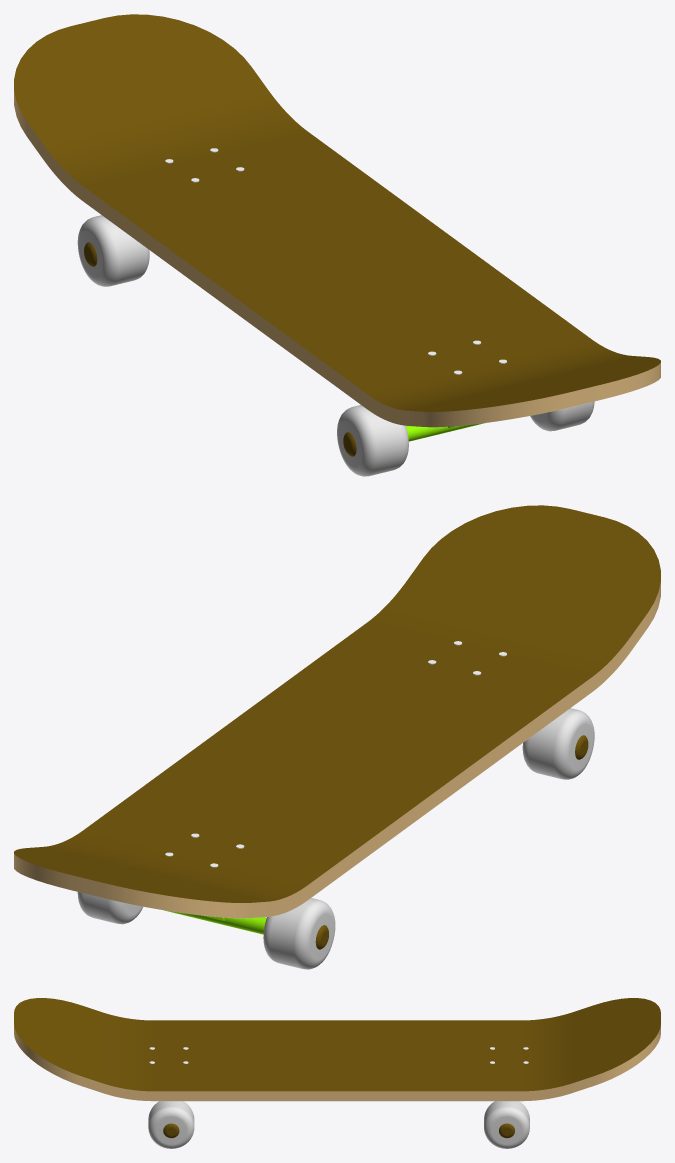
File: skateboard_ccf0420e.glb
3 renders of one model, top to bottom at view 1: azimuth 30°, elevation 25°; view 2: azimuth 150°, elevation 25°; view 3: azimuth 270°, elevation 25°, orthographic. The views are drawn at different scales.
Parts seen in each view (by area): view 1: Polygon, Cylinder; view 2: Polygon, Cylinder, Cylinder_2_2; view 3: Polygon, Cylinder, Cylinder_1_2, Polygon_1.
Boxes of the visible parts, <box> form: Polygon: <box>14,14,660,426</box>; Cylinder: <box>77,215,594,476</box>; Polygon: <box>14,505,660,918</box>; Cylinder: <box>77,708,594,969</box>; Cylinder_2_2: <box>164,910,266,934</box>; Polygon: <box>14,998,660,1100</box>; Cylinder: <box>148,1101,529,1148</box>; Cylinder_1_2: <box>163,1123,514,1138</box>; Polygon_1: <box>21,1049,653,1101</box>.
Size of the model in its own units: 136 by 82.04 by 498.
